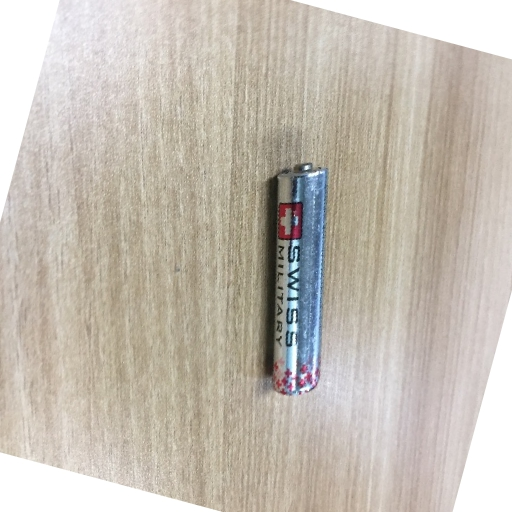Battery_0: (268, 160, 334, 402)
